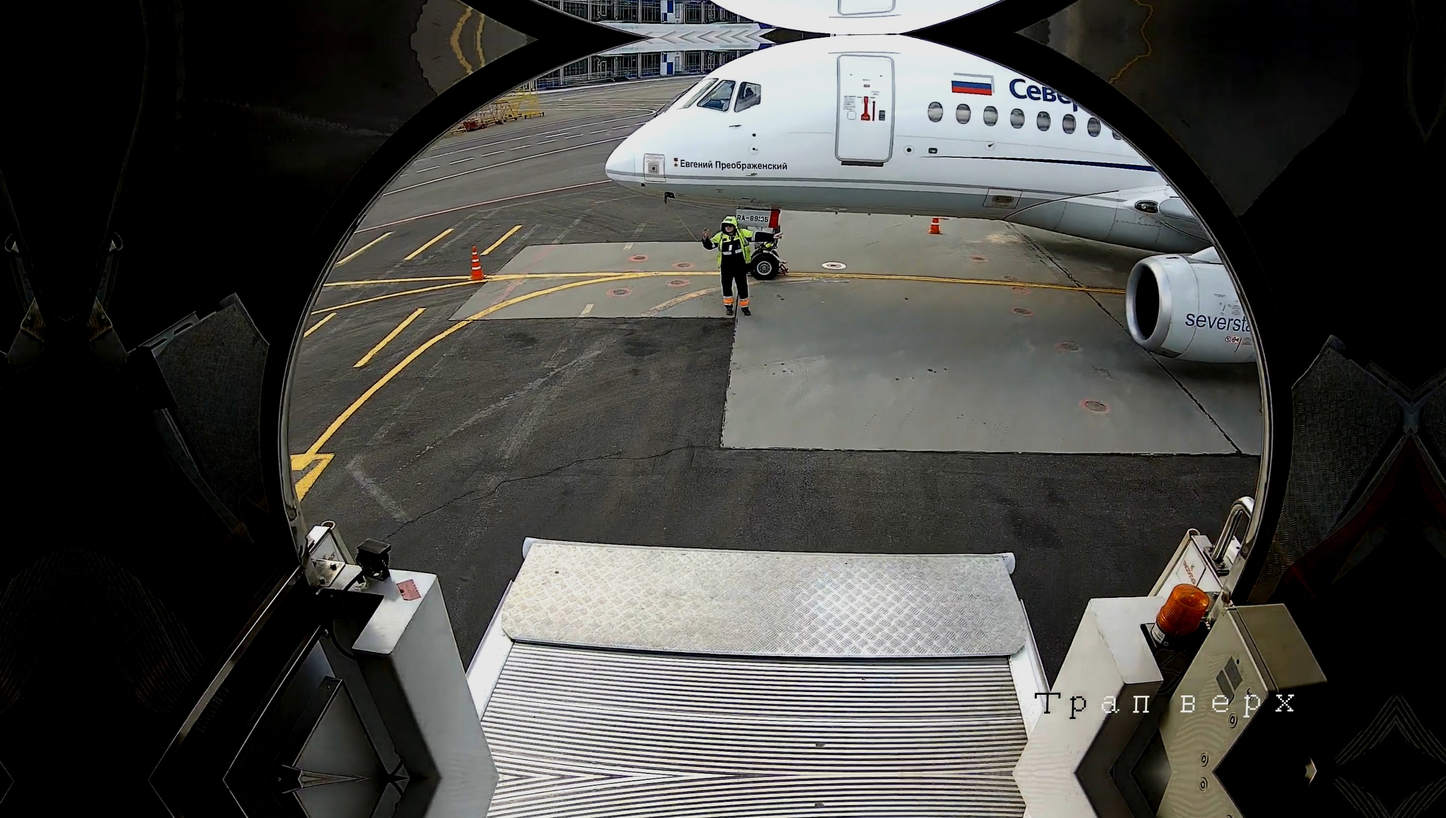boots: (777, 257, 795, 279)
wheels: (749, 248, 781, 285)
